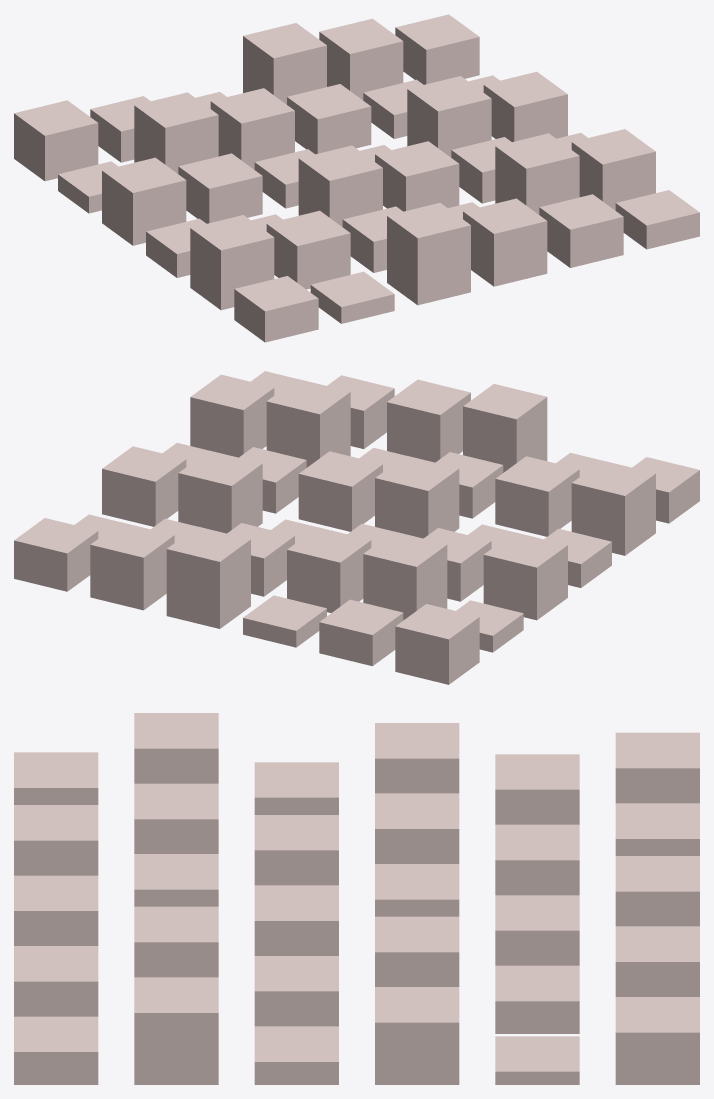
The model's file is block-2.glb.
3 renders of one model, top to bottom at view 1: azimuth 30°, elevation 25°; view 2: azimuth 150°, elevation 25°; view 3: azimuth 270°, elevation 25°, orthographic. The views are drawn at different scales.
Bounding box in the file's own units: 950 × 140 × 950.
